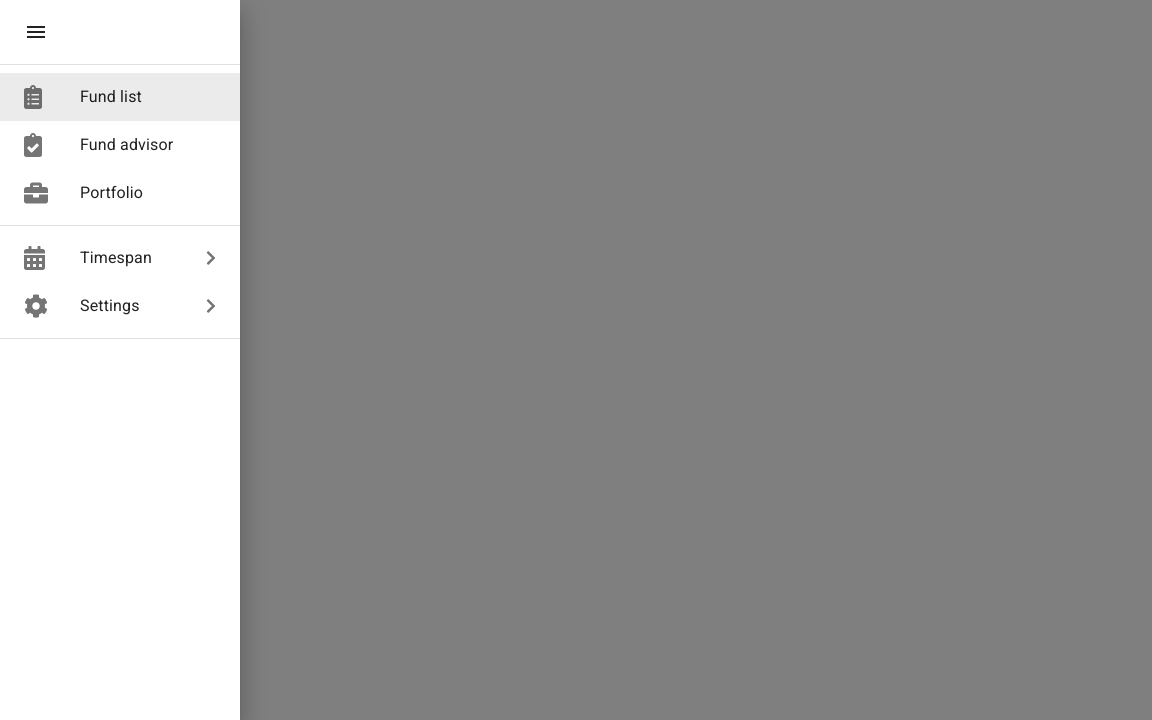
Test: Drawer › Expands settings when the settings button is clicked
This screenshot has width=1152, height=720.
Click the button with id "Settings-header" at (120, 306), box [24,294,216,318]
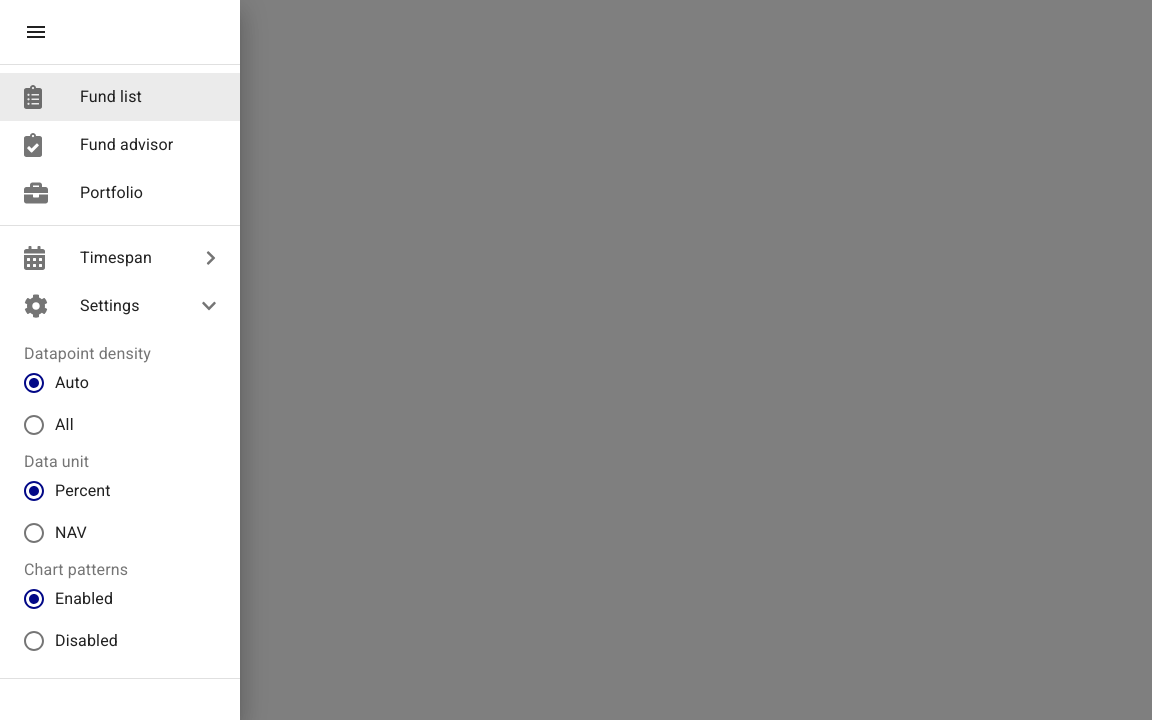
Result: the element with id "Settings-content" is shown at [22,344,151,653]
